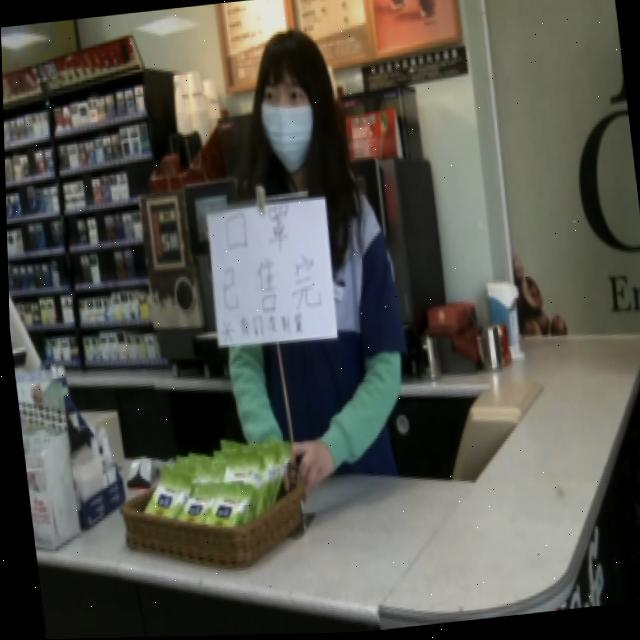Mask: (256, 80, 320, 182)
